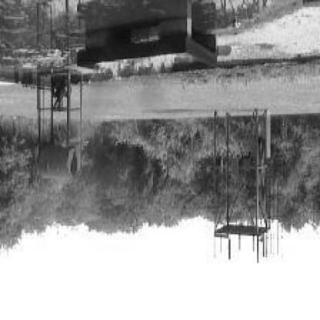Fire: (93, 53, 177, 85)
